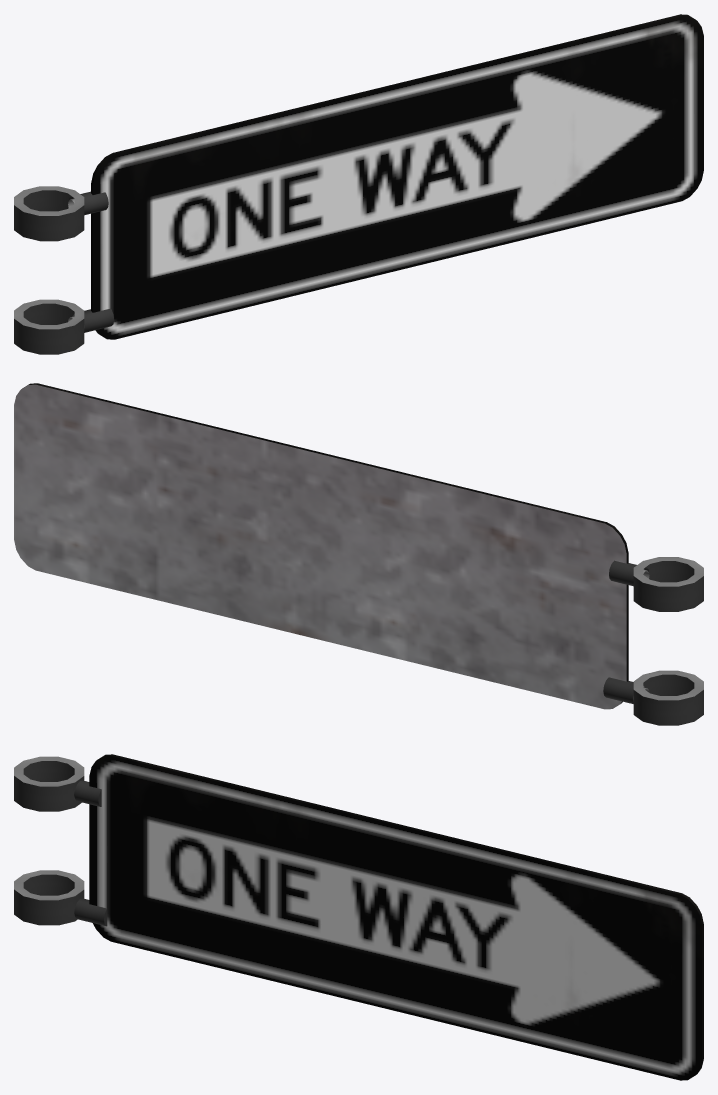
Rendered from Sign_St_OneWayA.fbx.
3 renders of one model, top to bottom at view 1: azimuth 30°, elevation 25°; view 2: azimuth 150°, elevation 25°; view 3: azimuth 330°, elevation 25°, orthographic.
Parts seen in each view (by area): view 1: Sign_St_OneWayA; view 2: Sign_St_OneWayA; view 3: Sign_St_OneWayA.
Part boxes in pixels (x1,y1,x2,y2): Sign_St_OneWayA: (14, 14, 703, 354); Sign_St_OneWayA: (14, 383, 703, 725); Sign_St_OneWayA: (14, 754, 703, 1080).
Bounding box in the file's own units: 158 × 40.91 × 14.06.
